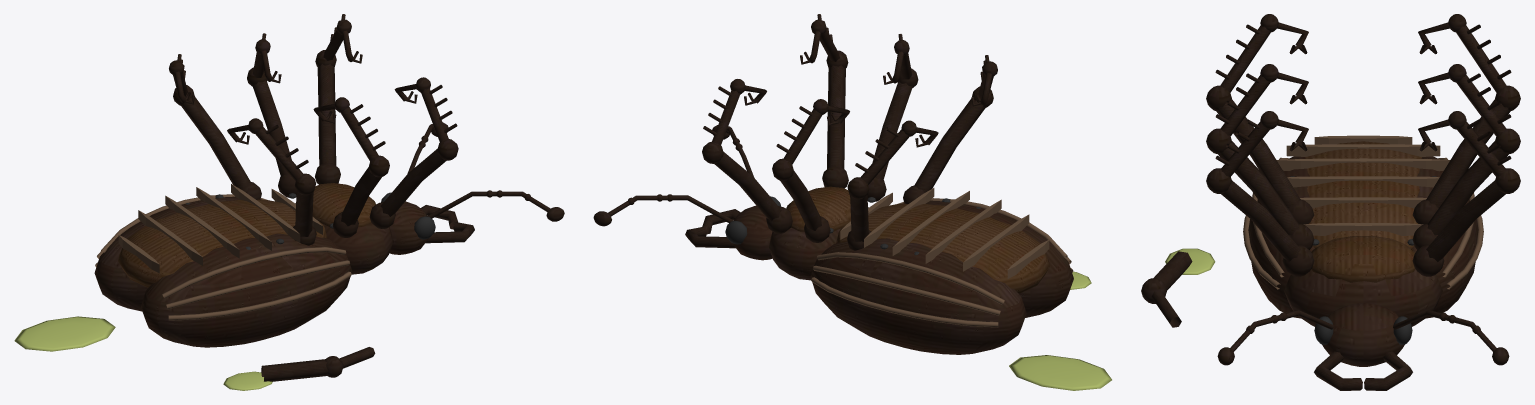
Rendered from deadbug.glb.
3 views of the same model, side by side, from view 1: azimuth 30°, elevation 25°; view 2: azimuth 150°, elevation 25°; view 3: azimuth 270°, elevation 25° (orthographic). The views are drawn at different scales.
Visible parts, largest first — view 1: sphere; view 2: sphere; view 3: sphere.
Boxes of the visible parts, x1,y1,x2,y2 form: sphere: [14, 14, 564, 390]; sphere: [593, 14, 1111, 390]; sphere: [1141, 14, 1520, 390].
Bounding box in the file's own units: 3.96 × 1.9 × 2.36.
Materials: 6 (3 with a texture image).
